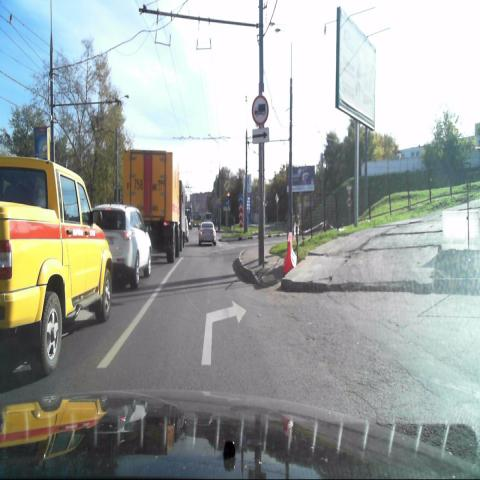8_3_1: (252, 128, 268, 143)
